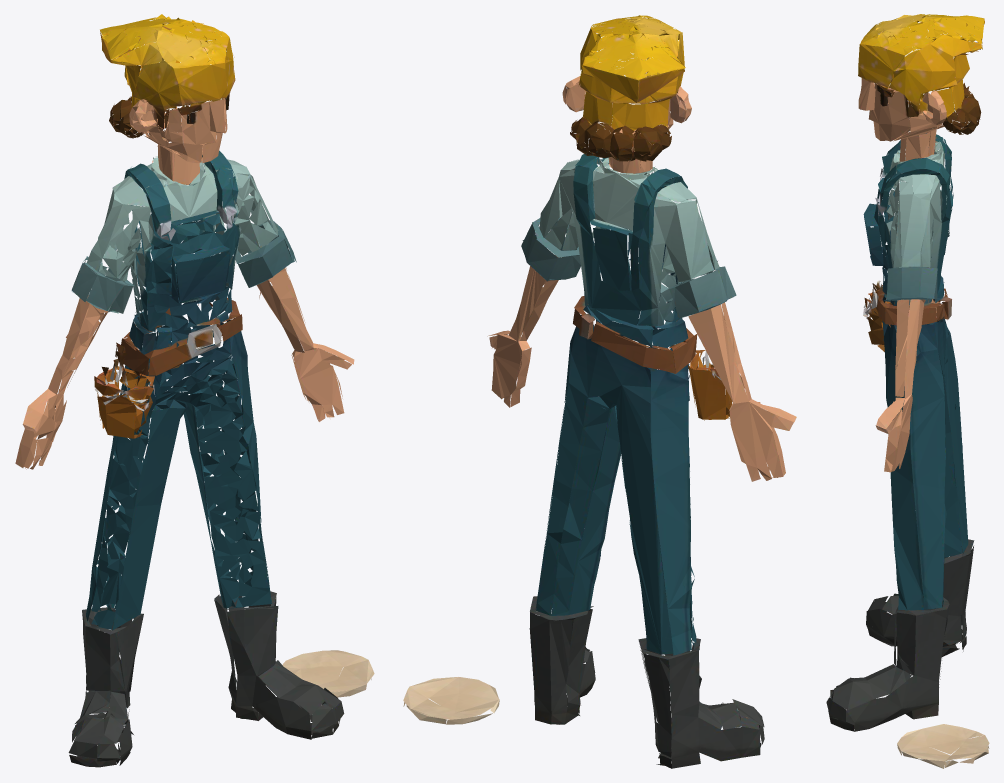
The model's file is habitant.glb.
3 renders of one model, left to right at view 1: azimuth 30°, elevation 25°; view 2: azimuth 150°, elevation 25°; view 3: azimuth 270°, elevation 25°, orthographic. The views are drawn at different scales.
Parts seen in each view (by area): view 1: world; view 2: world; view 3: world.
Boxes of the visible parts, x1,y1,x2,y2 form: world: (15, 14, 374, 767); world: (403, 15, 796, 768); world: (826, 14, 989, 768).
Bounding box in the file's own units: 0.545 × 1 × 0.2269.
Materials: 1 (1 with a texture image).
